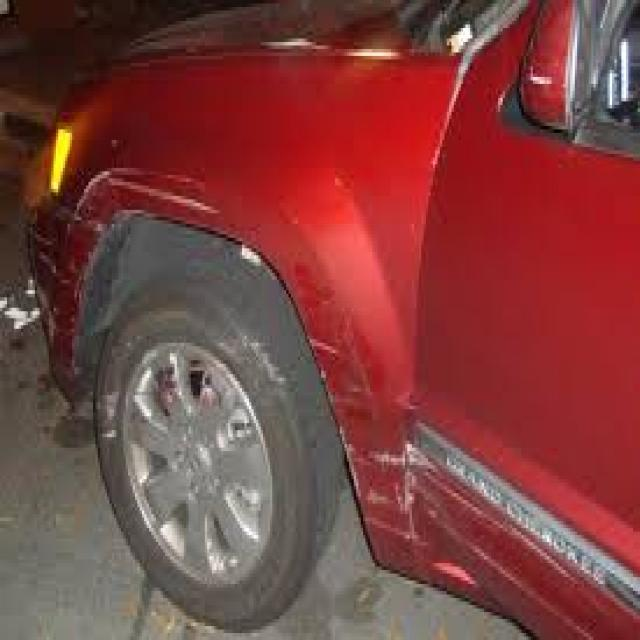minor: (278, 281, 440, 551), (26, 163, 128, 375)
